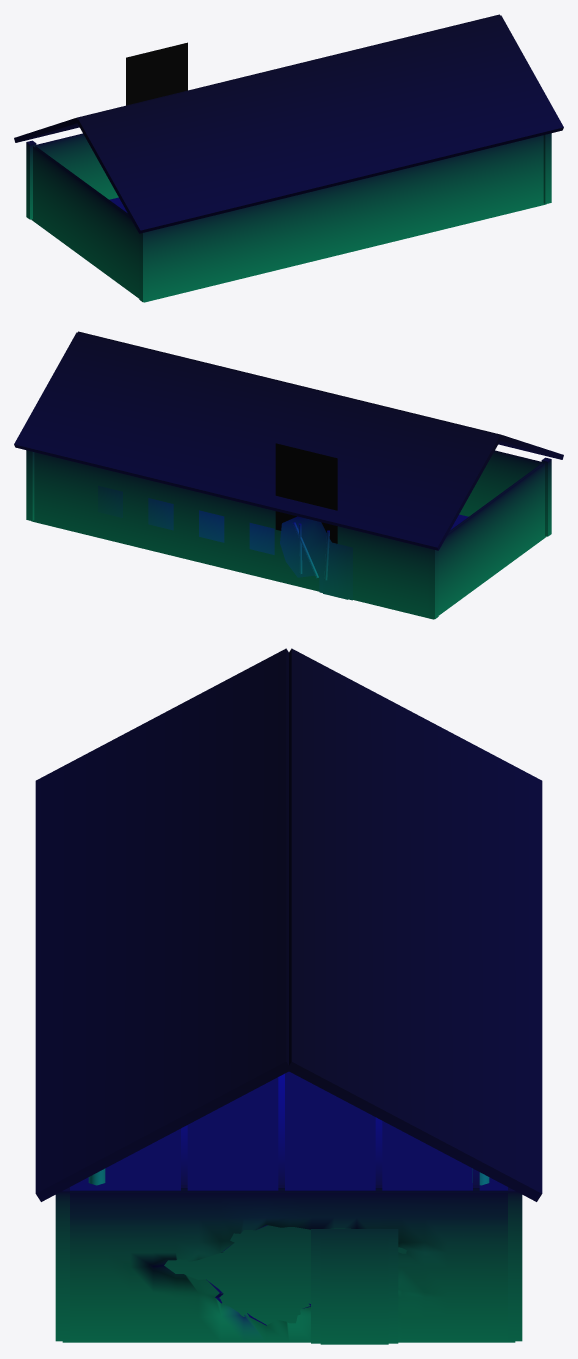
The model's file is s_barracks_damaged.glb.
The picture shows the model from 3 angles, top to bottom: view 1: azimuth 30°, elevation 25°; view 2: azimuth 150°, elevation 25°; view 3: azimuth 270°, elevation 25°; orthographic projection. The views are drawn at different scales.
Parts seen in each view (by area): view 1: lod0; view 2: lod0; view 3: lod0.
Boxes of the visible parts, x1,y1,x2,y2 form: lod0: (14,14,563,302); lod0: (14,331,563,619); lod0: (35,648,542,1344).
Size of what is drawn, in the model's own units: 20.1 by 6.61 by 10.41.
